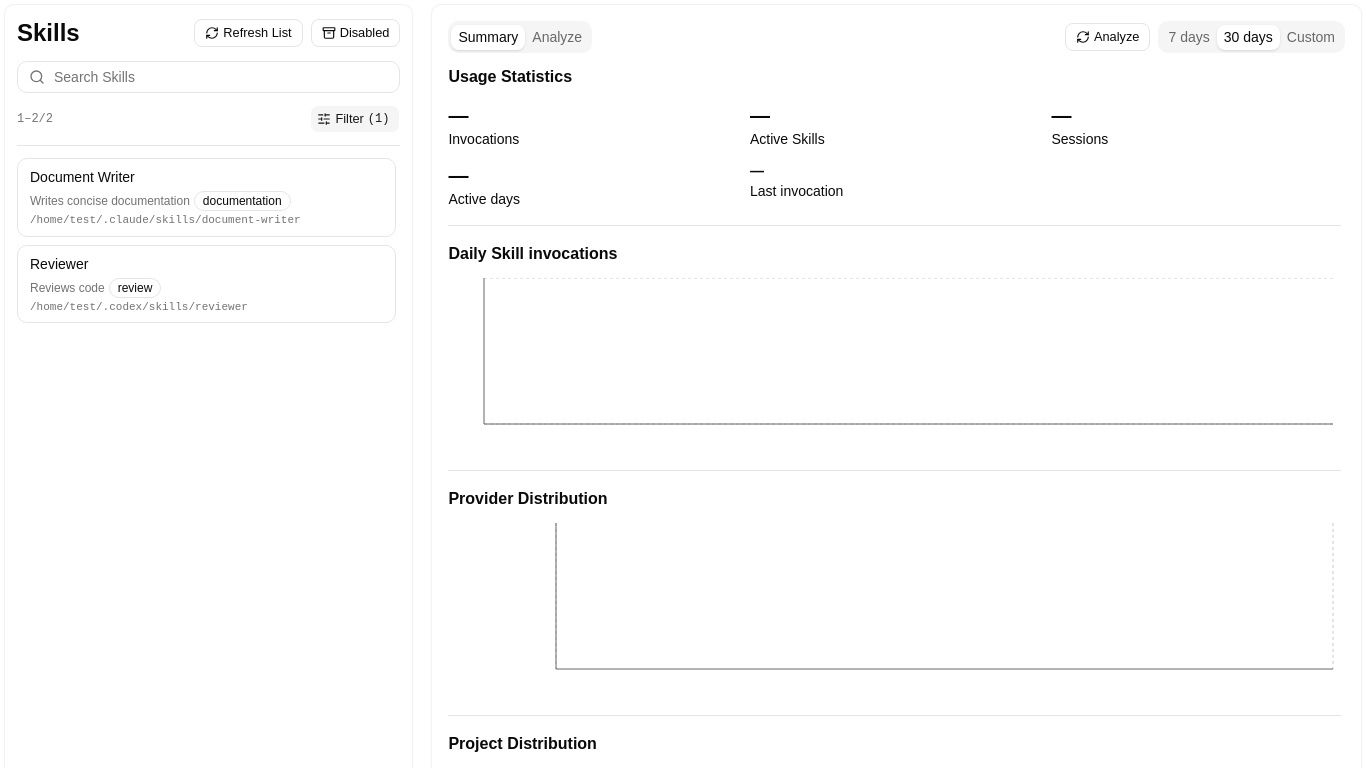
Scenario: SkillsPage › renders the SQLite catalog and sends search filters to the query
Expected: the heading "Skills" is shown, [17,17,80,49]
Expected: the text "Document Writer" is shown, [30,169,135,185]
Type "review" into the field labelled "Search Skills" at (209,77), box [17,61,400,93]
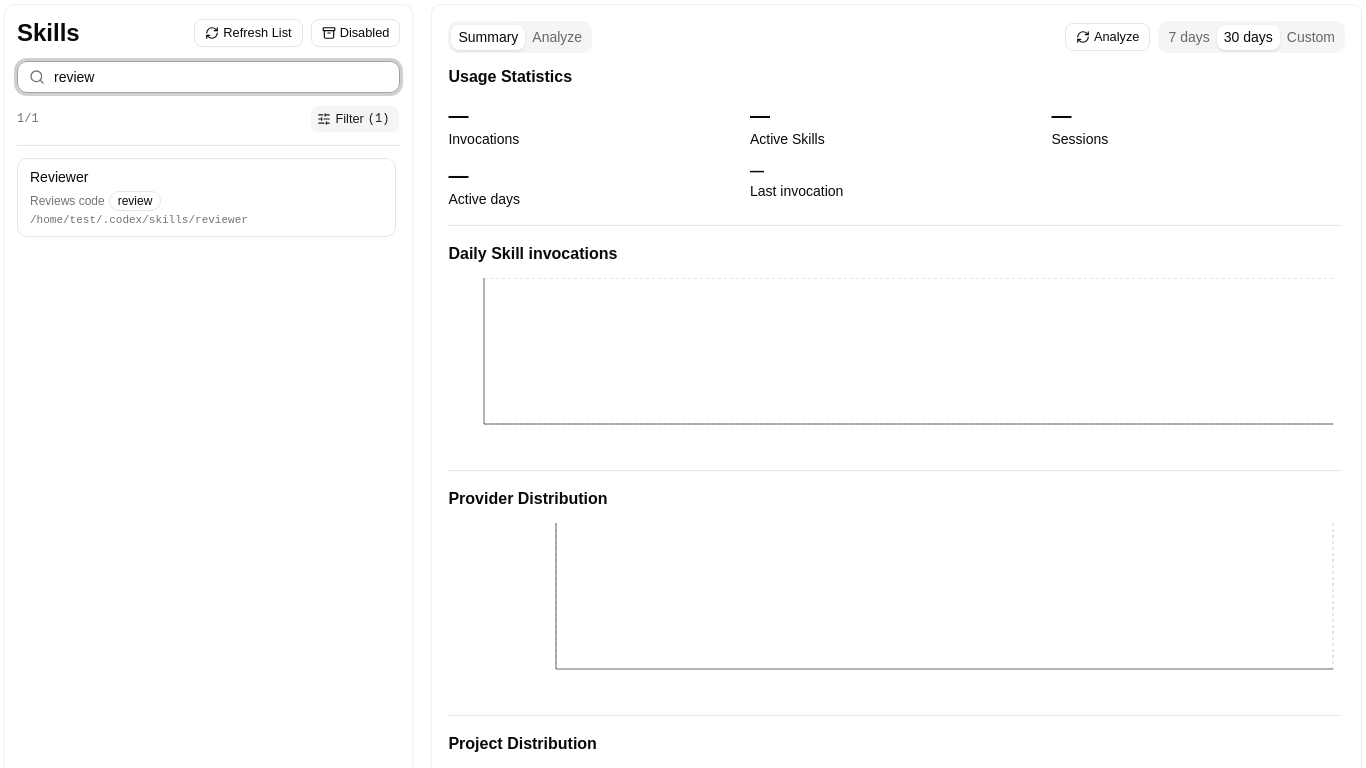
Expected: the text "Reviewer" is shown, [30,169,88,185]
Expected: the button "Document Writer" is gone
